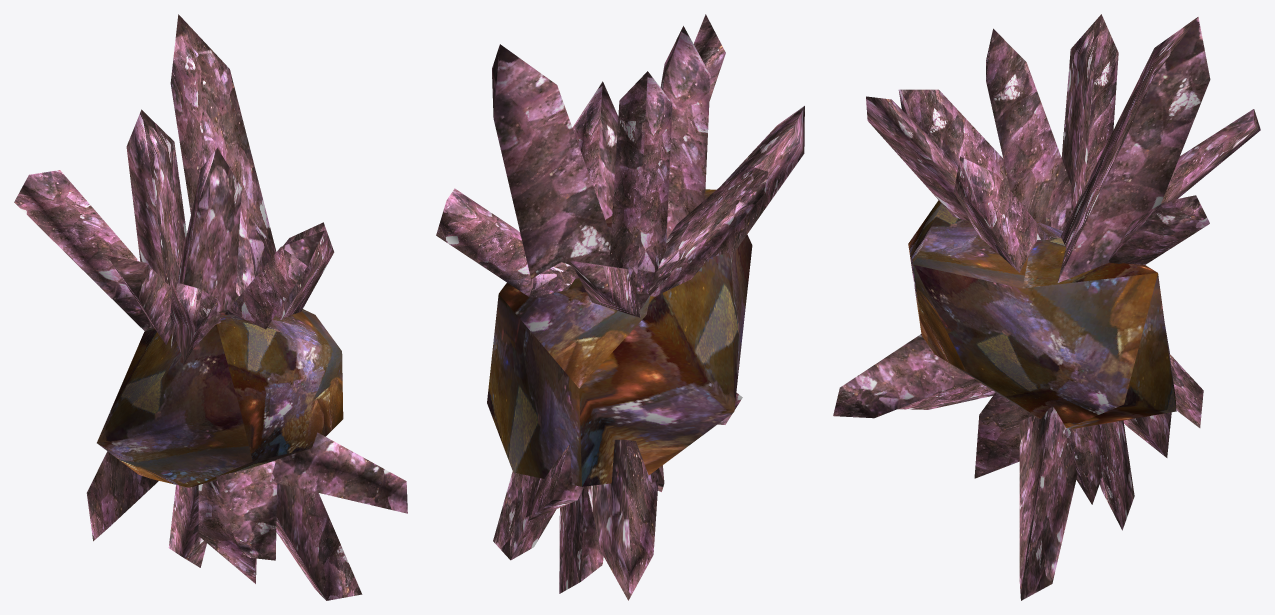
Rendered from bst21.obj.
The picture shows the model from 3 angles, left to right: view 1: azimuth 30°, elevation 25°; view 2: azimuth 150°, elevation 25°; view 3: azimuth 270°, elevation 25°; orthographic projection. The views are drawn at different scales.
Visible parts, largest first — view 1: SPIKES0.001, HEART0; view 2: SPIKES0.001, HEART0; view 3: SPIKES0.001, HEART0.
Part boxes in pixels (x1,y1,x2,y2): SPIKES0.001: [14, 14, 407, 600]; HEART0: [97, 296, 343, 487]; SPIKES0.001: [436, 14, 804, 600]; HEART0: [487, 189, 752, 486]; SPIKES0.001: [833, 14, 1260, 600]; HEART0: [908, 200, 1176, 428].
Size of the model in its own units: 36.44 by 74.3 by 53.54.
Materials: 2 (2 with a texture image).
